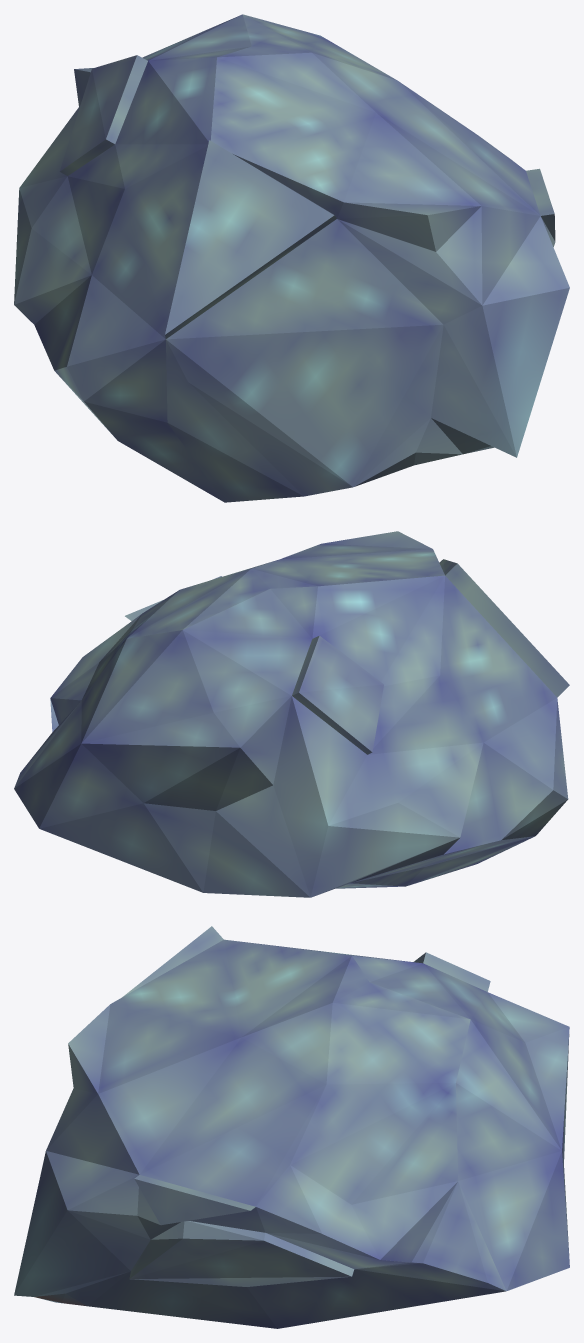
3 views of the same model, one above another, from view 1: azimuth 30°, elevation 25°; view 2: azimuth 150°, elevation 25°; view 3: azimuth 270°, elevation 25° (orthographic). The views are drawn at different scales.
Visible parts, largest first — view 1: PedraAsteroid2; view 2: PedraAsteroid2; view 3: PedraAsteroid2.
Boxes of the visible parts, box(x1,y1,x2,y2) form: PedraAsteroid2: box(14, 14, 569, 502); PedraAsteroid2: box(14, 531, 569, 897); PedraAsteroid2: box(14, 926, 569, 1328).
Size of the model in its own units: 667 by 466 by 693.
